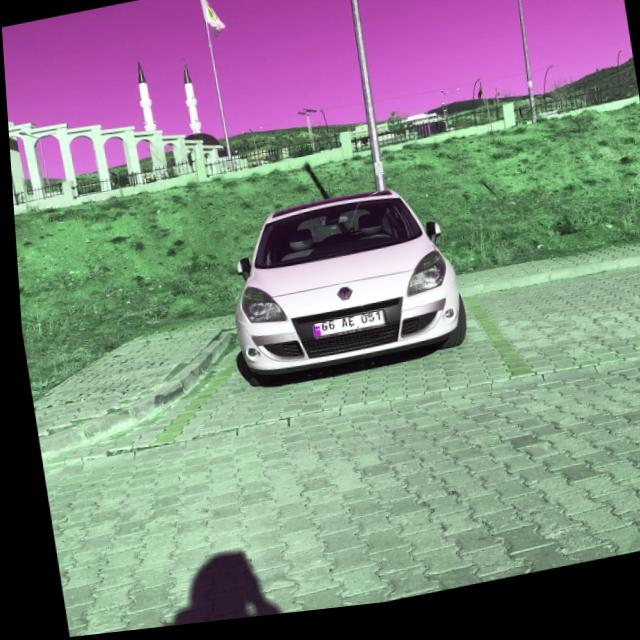license_plate: (307, 318, 380, 343)
